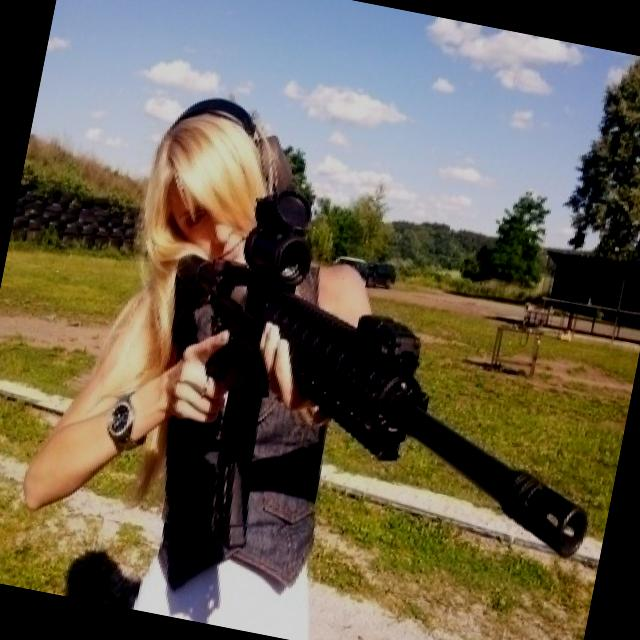long weapon: (101, 168, 640, 615)
